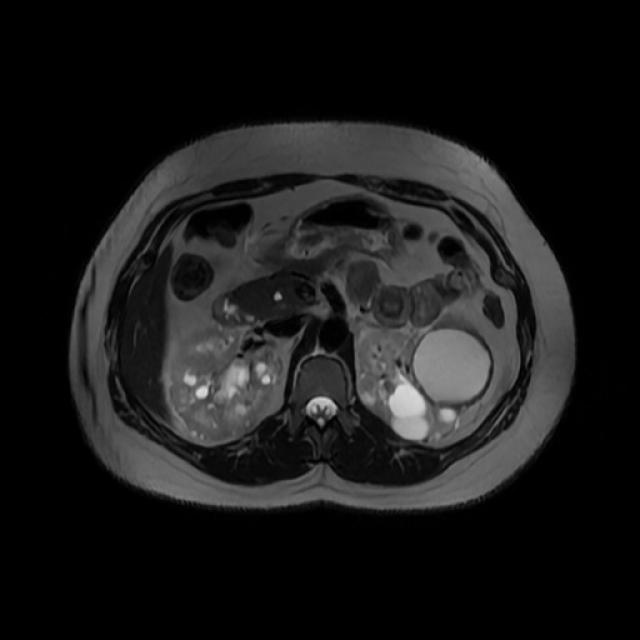sag: (167, 324, 282, 442)
sol: (355, 313, 493, 442)
